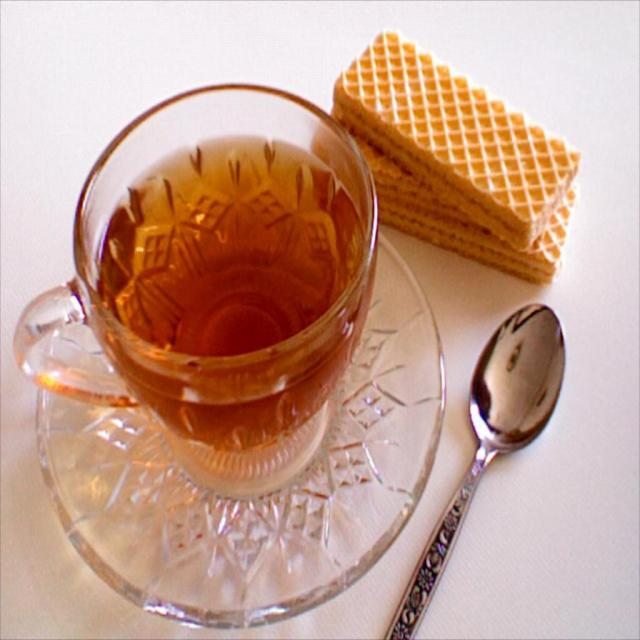Coffee: (50, 70, 366, 512)
Tea: (90, 124, 376, 460)
